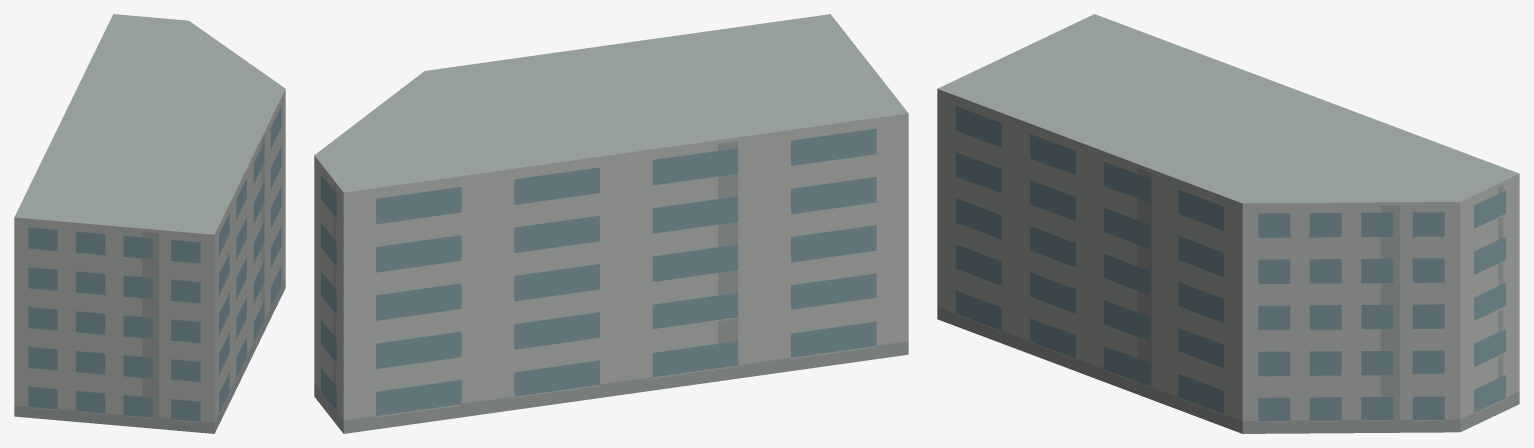
Rendered from residential-7687eccd-f1f6-4d57-84e8-7e27353f7ba8.glb.
3 renders of one model, left to right at view 1: azimuth 30°, elevation 25°; view 2: azimuth 150°, elevation 25°; view 3: azimuth 270°, elevation 25°, orthographic. The views are drawn at different scales.
Parts seen in each view (by area): view 1: residential-7687eccd-f1f6-4d57-84e8-7e27353f7ba8.tmp; view 2: residential-7687eccd-f1f6-4d57-84e8-7e27353f7ba8.tmp; view 3: residential-7687eccd-f1f6-4d57-84e8-7e27353f7ba8.tmp.
Boxes of the visible parts, x1,y1,x2,y2 form: residential-7687eccd-f1f6-4d57-84e8-7e27353f7ba8.tmp: [14, 14, 285, 433]; residential-7687eccd-f1f6-4d57-84e8-7e27353f7ba8.tmp: [314, 14, 908, 433]; residential-7687eccd-f1f6-4d57-84e8-7e27353f7ba8.tmp: [937, 14, 1519, 433].
Size of the model in its own units: 26.89 by 15.25 by 34.93.
